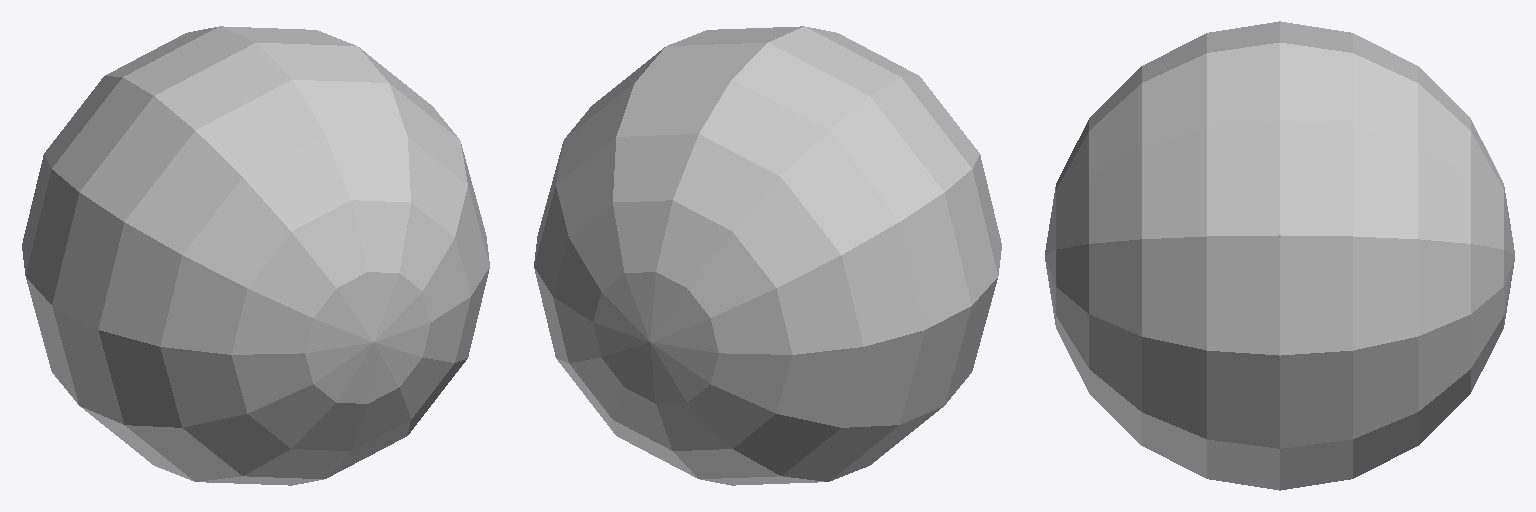
Rendered from sphere_centered.obj.
3 renders of one model, left to right at view 1: azimuth 30°, elevation 25°; view 2: azimuth 150°, elevation 25°; view 3: azimuth 270°, elevation 25°, orthographic.
Bounding box in the file's own units: 10 × 10 × 10.